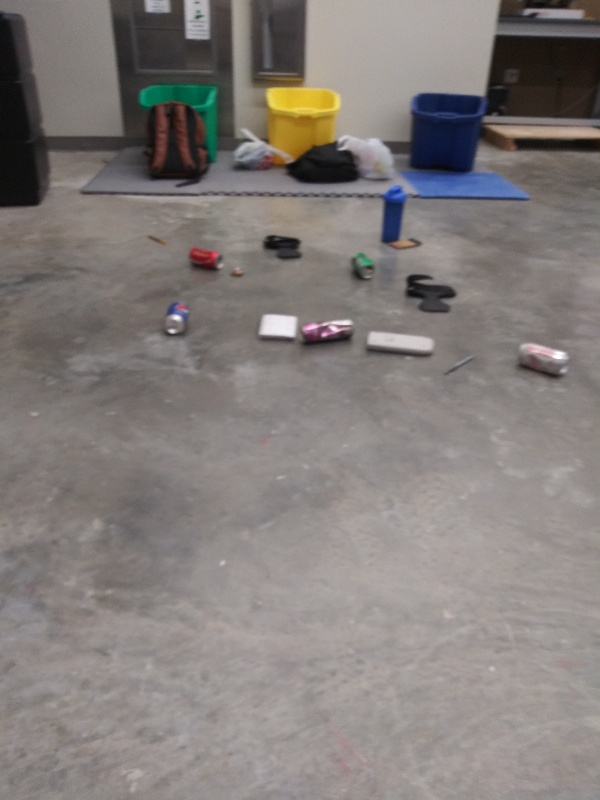can: (514, 339, 573, 382), (296, 317, 359, 345), (161, 297, 195, 335), (186, 244, 225, 272), (347, 250, 378, 282)
